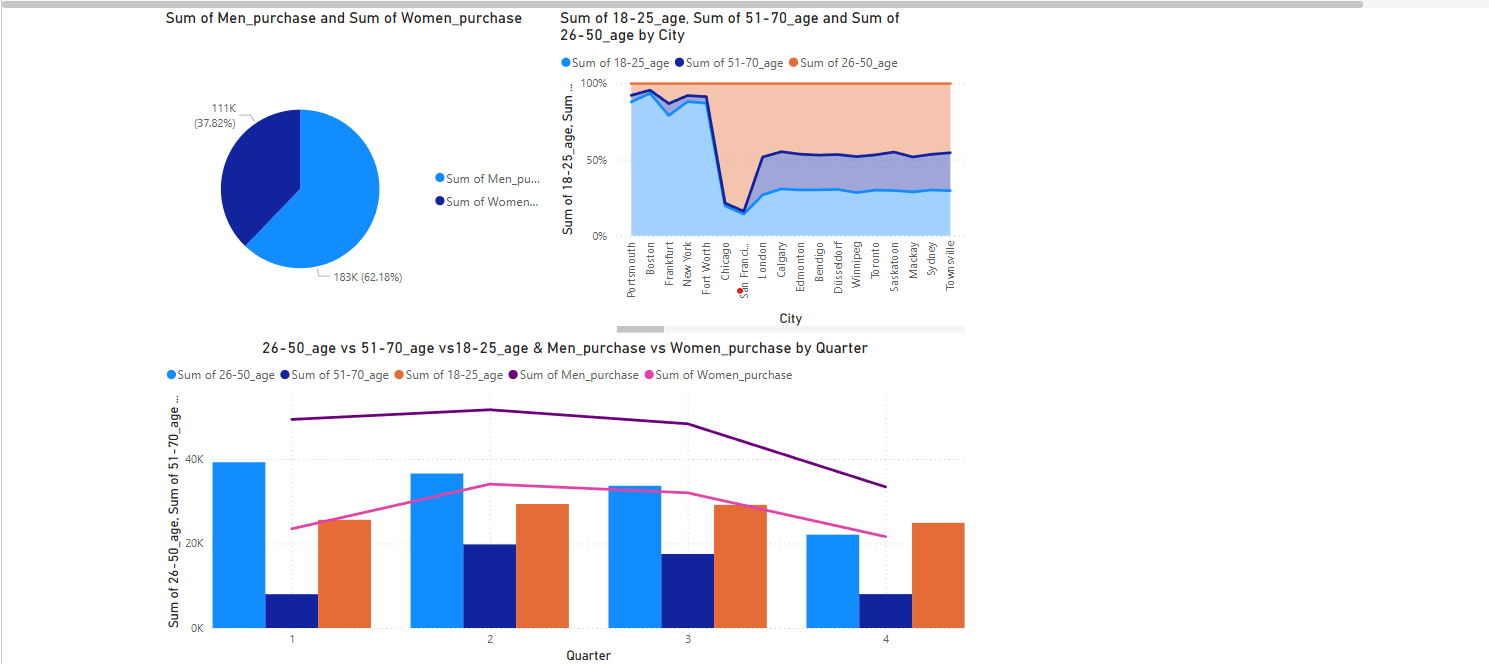

Layout of this report page (visuals, bound fields, positions):
{"tool":"powerbi","page":{"name":"Page 2","canvas":[1280,720],"ordinal":1},"visuals":[{"type":"pieChart","fields":{"Y":["Sum(gold retail_table.Men_purchase)","Sum(gold retail_table.Women_purchase)"]},"box":[0,0,430.4,375.4],"z":0},{"type":"hundredPercentStackedAreaChart","fields":{"Y":["Sum(gold retail_table.18-25_age)","Sum(gold retail_table.51-70_age)","Sum(gold retail_table.26-50_age)"],"Category":["gold retail_table.City"]},"box":[430.4,0,452.4,359.5],"z":1},{"type":"lineClusteredColumnComboChart","title":"26-50_age vs 51-70_age vs18-25_age  & Men_purchase  vs Women_purchase by Quarter","fields":{"Category":["gold retail_table.Quarter"],"Y":["Sum(gold retail_table.26-50_age)","Sum(gold retail_table.51-70_age)","Sum(gold retail_table.18-25_age)"],"Y2":["Sum(gold retail_table.Men_purchase)","Sum(gold retail_table.Women_purchase)"]},"box":[0,360.7,882.9,359.5],"z":2}]}

Visuals, with their boxes on the page's 1280x720 design canvas (x1, y1, x2, y2). These are canvas units, not pixel positions in the 1489x664 screenshot, which may show the page scaled, cropped or inside an application window:
pieChart - Sum(gold retail_table.Men_purchase) x Sum(gold retail_table.Women_purchase): x1=0 y1=0 x2=430 y2=375
hundredPercentStackedAreaChart - Sum(gold retail_table.18-25_age) x Sum(gold retail_table.51-70_age): x1=430 y1=0 x2=883 y2=360
"26-50_age vs 51-70_age vs18-25_age  & Men_purchase  vs Women_purchase by Quarter" lineClusteredColumnComboChart: x1=0 y1=361 x2=883 y2=720
